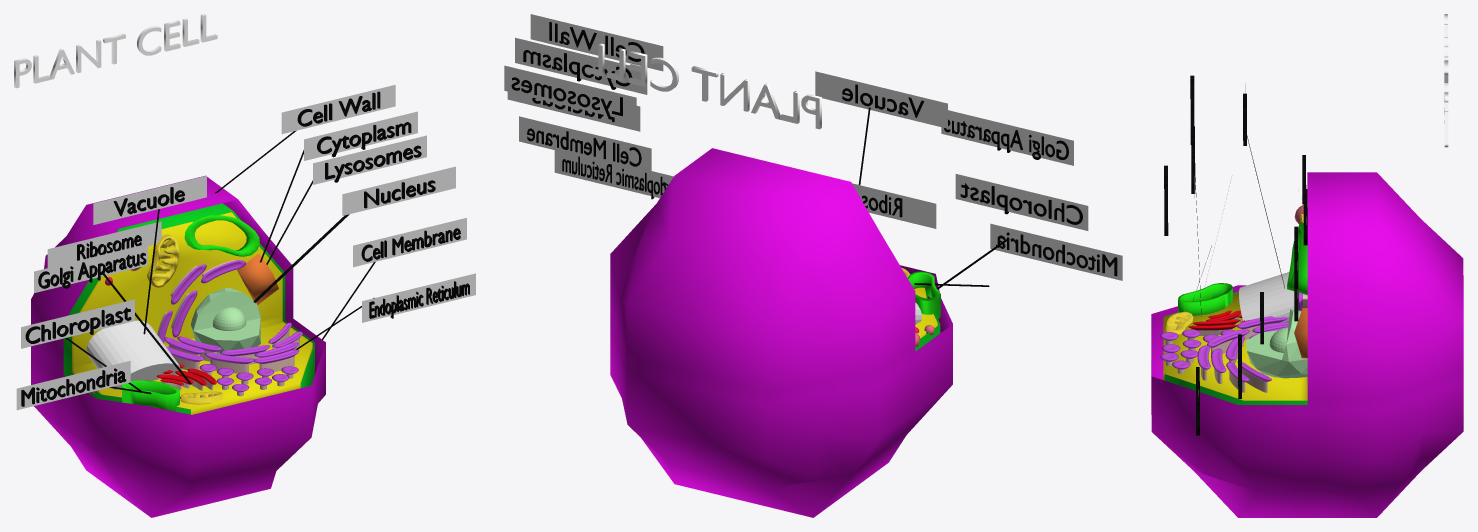
Rendered from plantcell.gltf.
3 renders of one model, left to right at view 1: azimuth 30°, elevation 25°; view 2: azimuth 150°, elevation 25°; view 3: azimuth 270°, elevation 25°, orthographic. The views are drawn at different scales.
Parts seen in each view (by area): view 1: Outside, main, Blue_Top, Icosphere.003, Cylinder, Text.008, Outside.001, Verde_Interno, Plane.001, Plane, Plane.007, Plane.020 (+22 smaller); view 2: Outside, Text.008, Plane.001, Plane.020, Plane.002, Plane.004, Plane.003, Plane.006, Plane.007, Plane.009, Plane.005, Plane.011 (+10 smaller); view 3: Outside, main, Blue_Top, Icosphere.003, Verde_Interno, Cylinder, Base_Azules, Outside.001, Red_Top, Text.008, Piedra_Naranja, Amarillo_Interno.
Boxes of the visible parts, box(x1,y1,x2,y2) form: Outside: box(31, 175, 325, 517); main: box(72, 212, 312, 414); Blue_Top: box(158, 260, 302, 392); Icosphere.003: box(190, 288, 260, 354); Cylinder: box(86, 320, 182, 389); Text.008: box(14, 14, 217, 88); Outside.001: box(63, 203, 314, 414); Verde_Interno: box(122, 215, 259, 411); Plane.001: box(93, 175, 206, 224); Plane: box(342, 166, 455, 215); Plane.007: box(281, 85, 395, 133); Plane.020: box(313, 135, 426, 184); Outside: box(610, 148, 952, 517); Text.008: box(585, 43, 821, 129); Plane.001: box(815, 71, 947, 128); Plane.020: box(504, 65, 636, 122); Plane.002: box(955, 174, 1088, 230); Plane.004: box(519, 116, 651, 173); Plane.003: box(990, 223, 1122, 280); Plane.006: box(941, 110, 1073, 165); Plane.007: box(530, 14, 663, 71); Plane.009: box(515, 37, 647, 94); Plane.005: box(554, 150, 673, 198); Plane.011: box(852, 183, 936, 228); Outside: box(1151, 172, 1463, 517); main: box(1163, 292, 1307, 400); Blue_Top: box(1160, 292, 1302, 382); Icosphere.003: box(1246, 309, 1307, 378); Verde_Interno: box(1178, 222, 1307, 315); Cylinder: box(1239, 272, 1294, 322); Base_Azules: box(1165, 294, 1307, 392); Outside.001: box(1164, 203, 1307, 404); Red_Top: box(1188, 310, 1248, 330); Text.008: box(1444, 14, 1448, 147); Piedra_Naranja: box(1294, 308, 1307, 358); Amarillo_Interno: box(1166, 214, 1303, 334).
Bounding box in the file's own units: 5.67 × 4.42 × 2.96.
